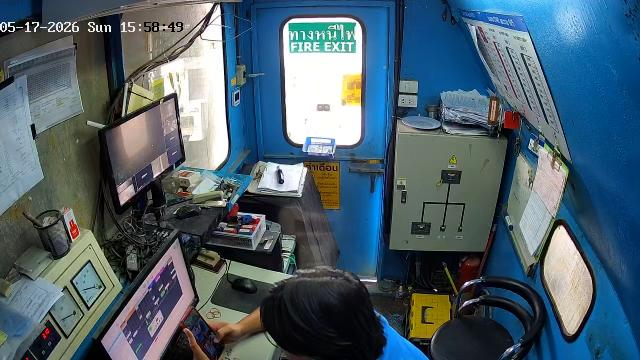Head: (260, 271, 381, 360)
People: (191, 271, 427, 360)
Phone: (180, 306, 226, 360)
